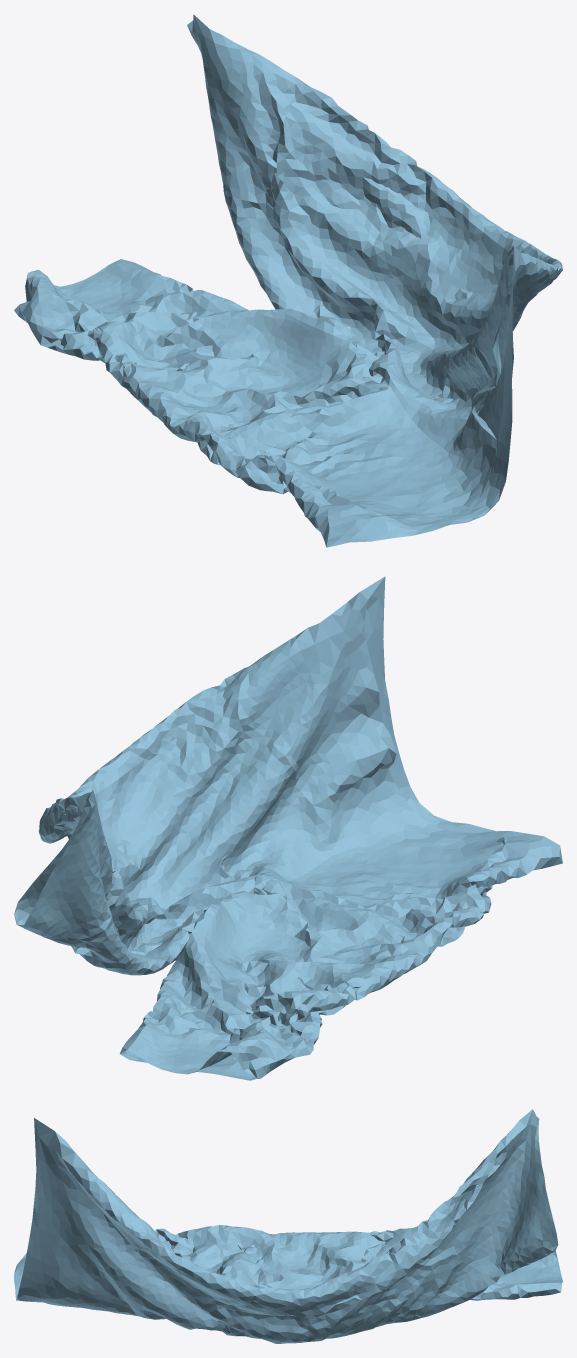
Rendered from frame_11.glb.
The picture shows the model from 3 angles, top to bottom: view 1: azimuth 30°, elevation 25°; view 2: azimuth 150°, elevation 25°; view 3: azimuth 270°, elevation 25°; orthographic projection. The views are drawn at different scales.
Visible parts, largest first — view 1: frame_11.obj; view 2: frame_11.obj; view 3: frame_11.obj.
Part boxes in pixels (bbox=[...]): frame_11.obj: bbox=[14, 14, 562, 547]; frame_11.obj: bbox=[14, 576, 562, 1080]; frame_11.obj: bbox=[14, 1109, 562, 1343].
Bounding box in the file's own units: 1.05 × 0.7317 × 1.74.
